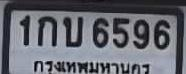1: (19, 14, 29, 45)
5: (112, 17, 128, 47)
6: (153, 18, 169, 48), (92, 17, 108, 47)
9: (132, 18, 148, 48)
A01: (37, 15, 56, 46)
A26: (62, 15, 82, 46)
BKK: (31, 58, 154, 74)
